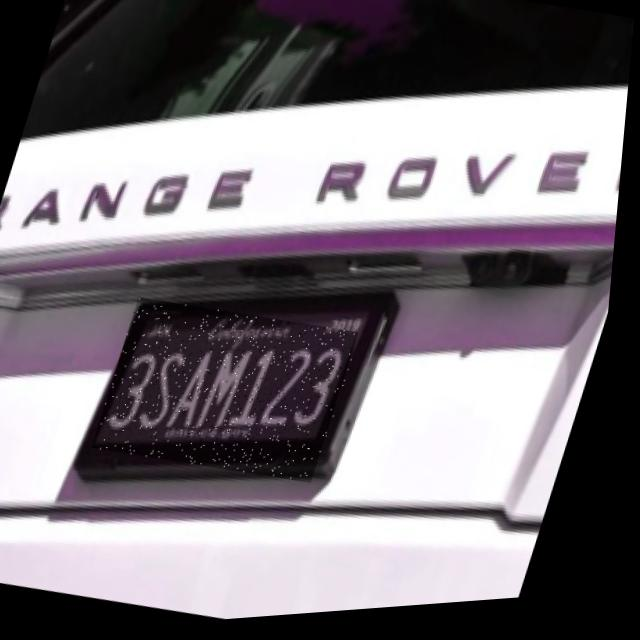license_plate: (96, 286, 370, 501)
